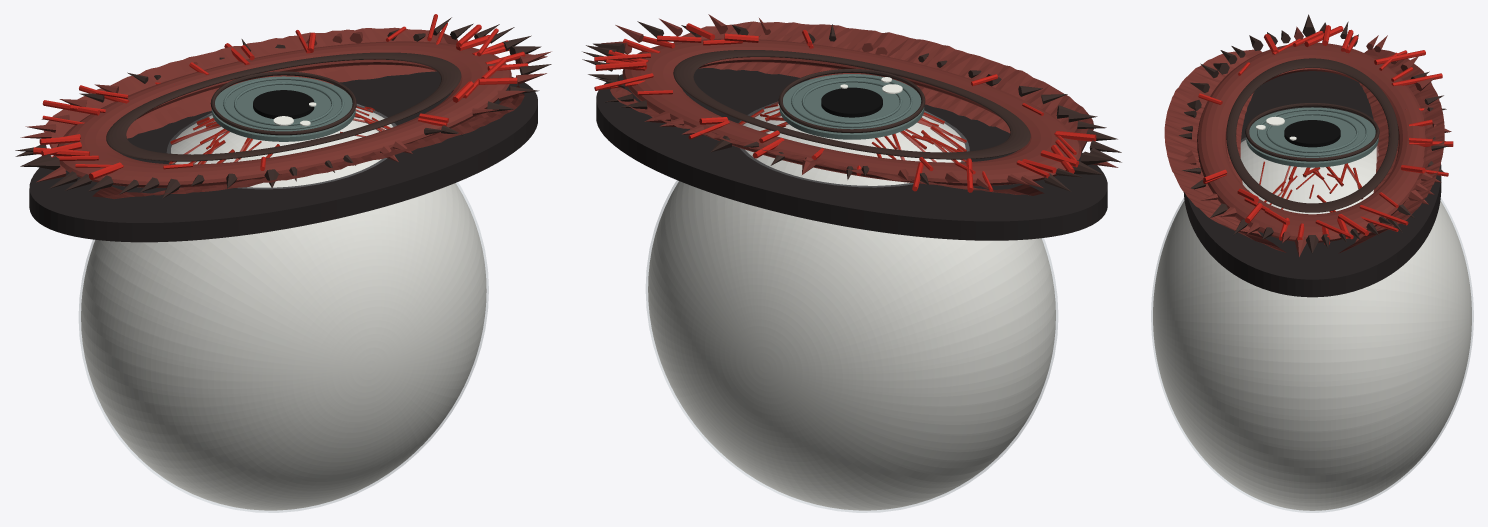
Rendered from horror_eye_3d_model.glb.
The picture shows the model from 3 angles, left to right: view 1: azimuth 30°, elevation 25°; view 2: azimuth 150°, elevation 25°; view 3: azimuth 270°, elevation 25°; orthographic projection. The views are drawn at different scales.
Visible parts, largest first — view 1: Wet_Cornea_Shell, Eyeball_Sclera, Socket_Backplate, Ragged_Flesh_Frame, Lower_Eyelid, Inner_Shadow_Rim, Iris, Upper_Eyelid, Iris_Detail_Ring_3, Pupil, Iris_Detail_Ring_2, Iris_Detail_Ring_1; view 2: Wet_Cornea_Shell, Eyeball_Sclera, Socket_Backplate, Ragged_Flesh_Frame, Upper_Eyelid, Inner_Shadow_Rim, Iris, Lower_Eyelid, Pupil, Iris_Detail_Ring_3, Iris_Detail_Ring_2, Iris_Detail_Ring_1; view 3: Wet_Cornea_Shell, Eyeball_Sclera, Socket_Backplate, Ragged_Flesh_Frame, Upper_Eyelid, Inner_Shadow_Rim, Lower_Eyelid, Iris, Iris_Detail_Ring_3, Pupil, Iris_Detail_Ring_2, Iris_Detail_Ring_1.
Part boxes in pixels (x1=…): Wet_Cornea_Shell: x1=79, y1=104, x2=488, y2=512; Eyeball_Sclera: x1=81, y1=108, x2=486, y2=510; Socket_Backplate: x1=29, y1=71, x2=537, y2=242; Ragged_Flesh_Frame: x1=56, y1=41, x2=511, y2=187; Lower_Eyelid: x1=44, y1=27, x2=457, y2=170; Inner_Shadow_Rim: x1=106, y1=52, x2=461, y2=161; Iris: x1=211, y1=76, x2=355, y2=141; Upper_Eyelid: x1=92, y1=85, x2=524, y2=199; Iris_Detail_Ring_3: x1=210, y1=71, x2=356, y2=135; Pupil: x1=253, y1=90, x2=314, y2=118; Iris_Detail_Ring_2: x1=223, y1=77, x2=344, y2=129; Iris_Detail_Ring_1: x1=234, y1=82, x2=333, y2=125; Wet_Cornea_Shell: x1=646, y1=102, x2=1057, y2=512; Eyeball_Sclera: x1=648, y1=104, x2=1055, y2=510; Socket_Backplate: x1=596, y1=68, x2=1107, y2=240; Ragged_Flesh_Frame: x1=622, y1=38, x2=1081, y2=186; Upper_Eyelid: x1=674, y1=21, x2=1093, y2=153; Inner_Shadow_Rim: x1=673, y1=50, x2=1030, y2=159; Iris: x1=779, y1=74, x2=924, y2=139; Lower_Eyelid: x1=610, y1=87, x2=1044, y2=195; Pupil: x1=821, y1=87, x2=882, y2=117; Iris_Detail_Ring_3: x1=778, y1=69, x2=925, y2=133; Iris_Detail_Ring_2: x1=791, y1=75, x2=912, y2=127; Iris_Detail_Ring_1: x1=801, y1=80, x2=902, y2=123; Wet_Cornea_Shell: x1=1151, y1=138, x2=1473, y2=512; Eyeball_Sclera: x1=1153, y1=140, x2=1471, y2=510; Socket_Backplate: x1=1183, y1=71, x2=1441, y2=297; Ragged_Flesh_Frame: x1=1197, y1=42, x2=1425, y2=242; Upper_Eyelid: x1=1164, y1=49, x2=1286, y2=252; Inner_Shadow_Rim: x1=1226, y1=58, x2=1398, y2=212; Lower_Eyelid: x1=1338, y1=48, x2=1444, y2=253; Iris: x1=1246, y1=107, x2=1378, y2=167; Iris_Detail_Ring_3: x1=1245, y1=103, x2=1379, y2=161; Pupil: x1=1284, y1=120, x2=1340, y2=147; Iris_Detail_Ring_2: x1=1257, y1=108, x2=1367, y2=156; Iris_Detail_Ring_1: x1=1266, y1=113, x2=1358, y2=152.
Size of the model in its own units: 2.82 by 2.09 by 1.66.
